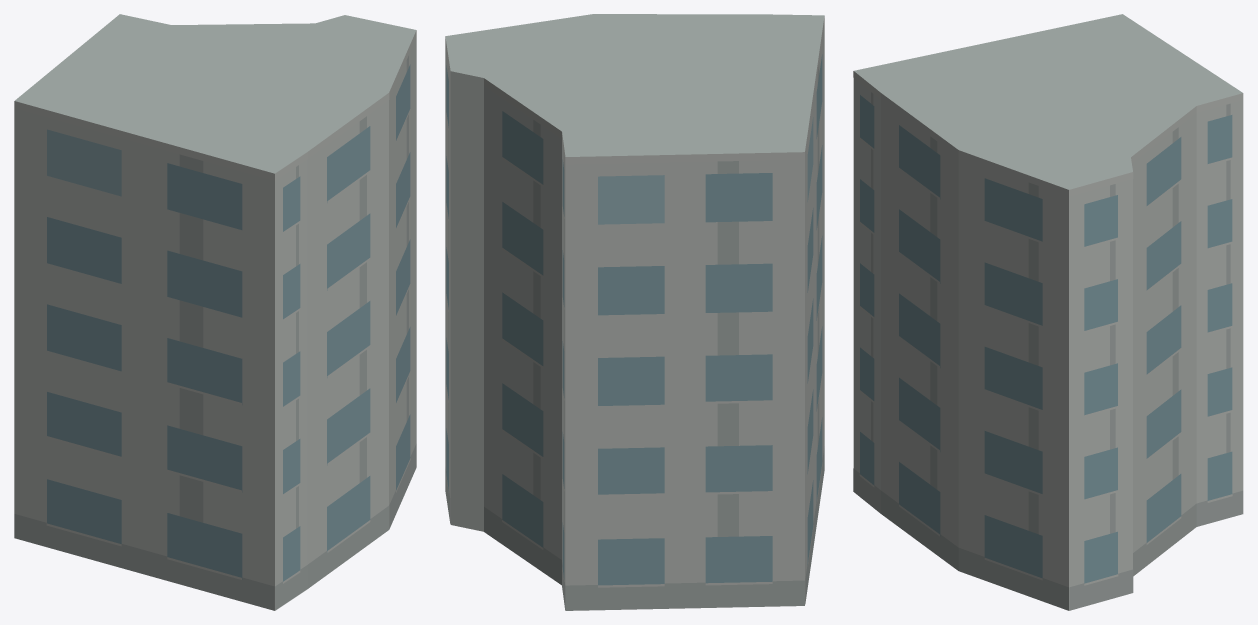
File: survey-upis-32905674.glb
The picture shows the model from 3 angles, left to right: view 1: azimuth 30°, elevation 25°; view 2: azimuth 150°, elevation 25°; view 3: azimuth 270°, elevation 25°; orthographic projection. The views are drawn at different scales.
Parts seen in each view (by area): view 1: survey-upis-32905674.tmp; view 2: survey-upis-32905674.tmp; view 3: survey-upis-32905674.tmp.
Part boxes in pixels (x1,y1,x2,y2): survey-upis-32905674.tmp: (14, 14, 416, 610); survey-upis-32905674.tmp: (445, 14, 824, 610); survey-upis-32905674.tmp: (853, 14, 1243, 610).
Size of the model in its own units: 13.09 by 14.6 by 12.26.
